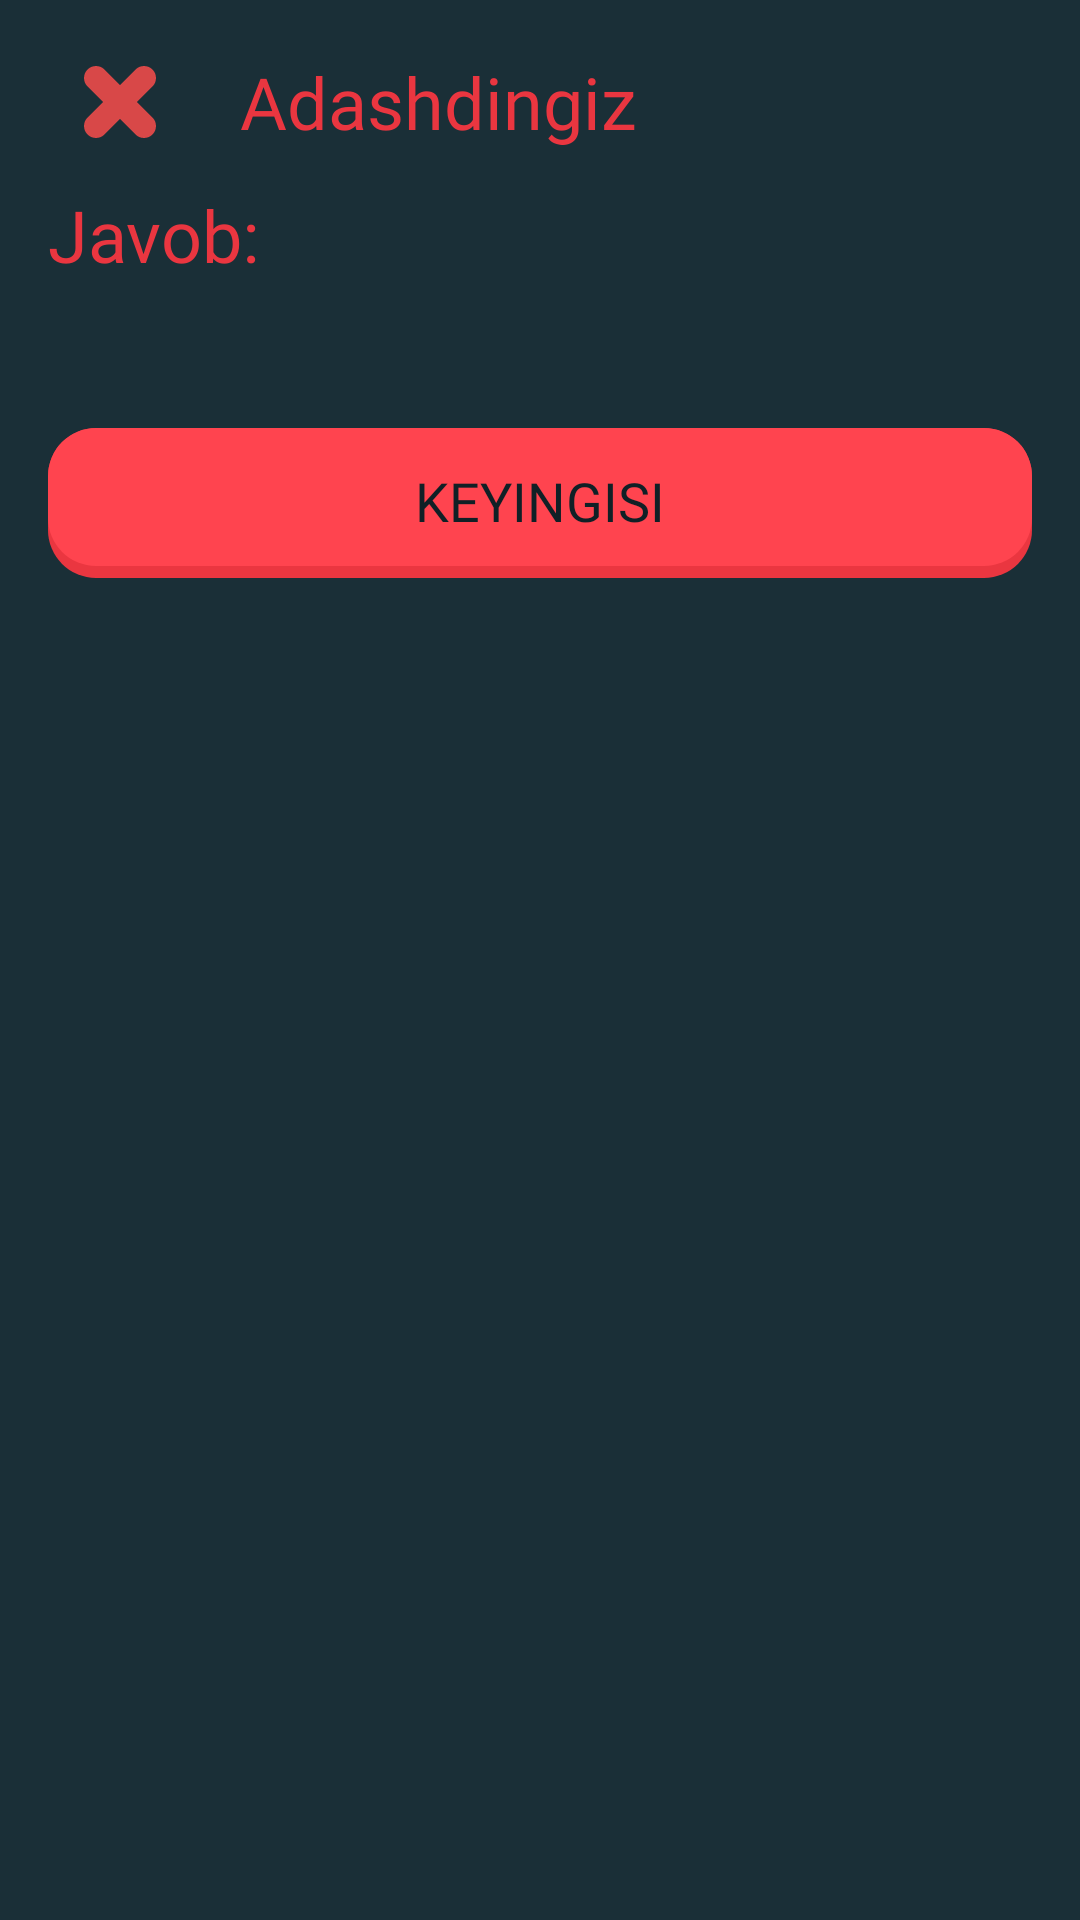

Locate icon controls on the screen. Image size 1080*1920, boxes as (x1, y1, x2, y2).
wrong: (84, 66, 156, 138)
